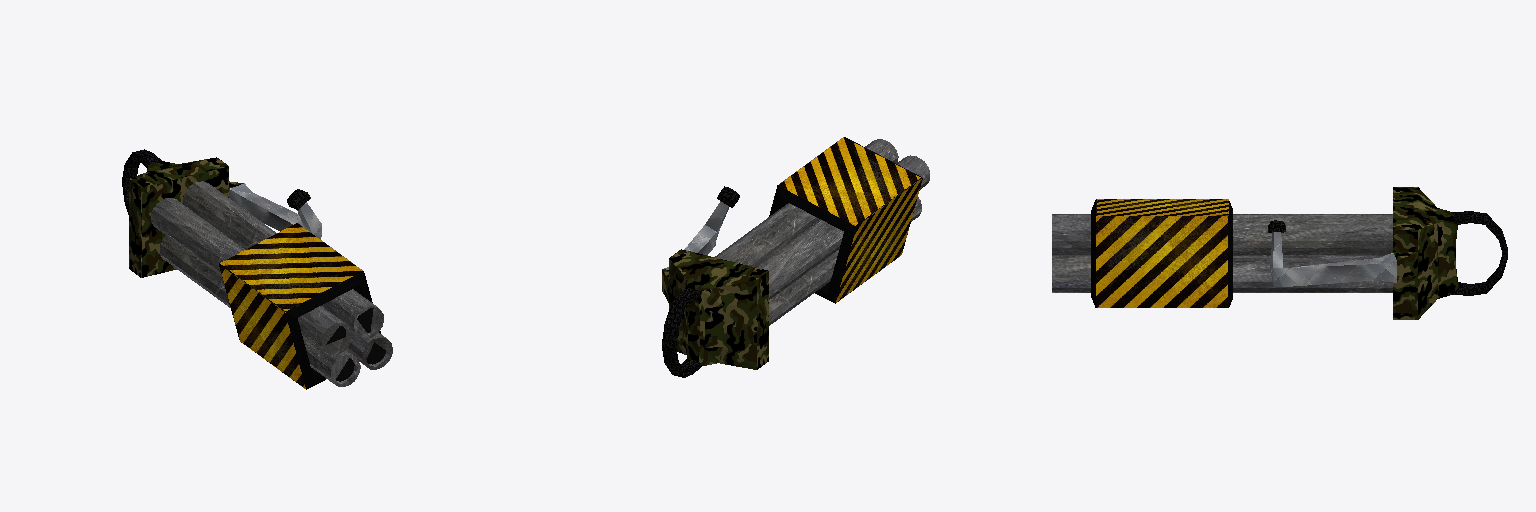
3 renders of one model, left to right at view 1: azimuth 30°, elevation 25°; view 2: azimuth 150°, elevation 25°; view 3: azimuth 270°, elevation 25°, orthographic.
Visible parts, largest first — view 1: Cylinder.001, Cylinder.000_Cylinder.004, Cube; view 2: Cylinder.000_Cylinder.004, Cube, Cylinder.001; view 3: Cylinder.000_Cylinder.004, Cylinder.001, Cube.
Boxes of the visible parts, x1=… form: Cylinder.001: x1=151, y1=181, x2=392, y2=386; Cylinder.000_Cylinder.004: x1=219, y1=223, x2=380, y2=389; Cube: x1=122, y1=149, x2=321, y2=277; Cylinder.000_Cylinder.004: x1=769, y1=137, x2=922, y2=303; Cube: x1=662, y1=186, x2=768, y2=377; Cylinder.001: x1=697, y1=139, x2=929, y2=325; Cylinder.000_Cylinder.004: x1=1091, y1=199, x2=1232, y2=307; Cylinder.001: x1=1052, y1=214, x2=1392, y2=292; Cube: x1=1268, y1=187, x2=1507, y2=319.
Bounding box in the file's own units: 1.64 × 1.4 × 5.15.
3 materials, 1 textured.